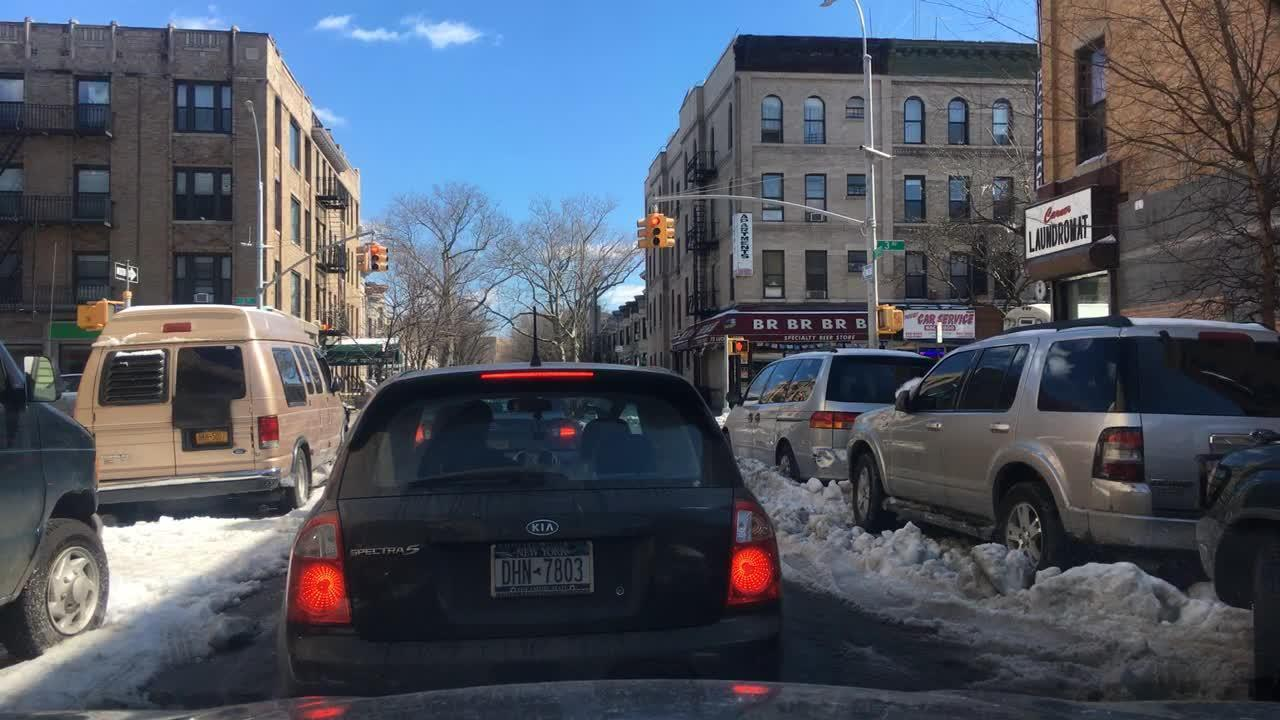kia: (512, 512, 570, 546)
